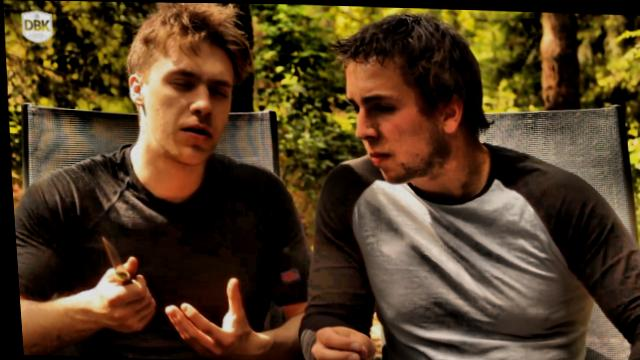knife: (87, 225, 154, 315)
